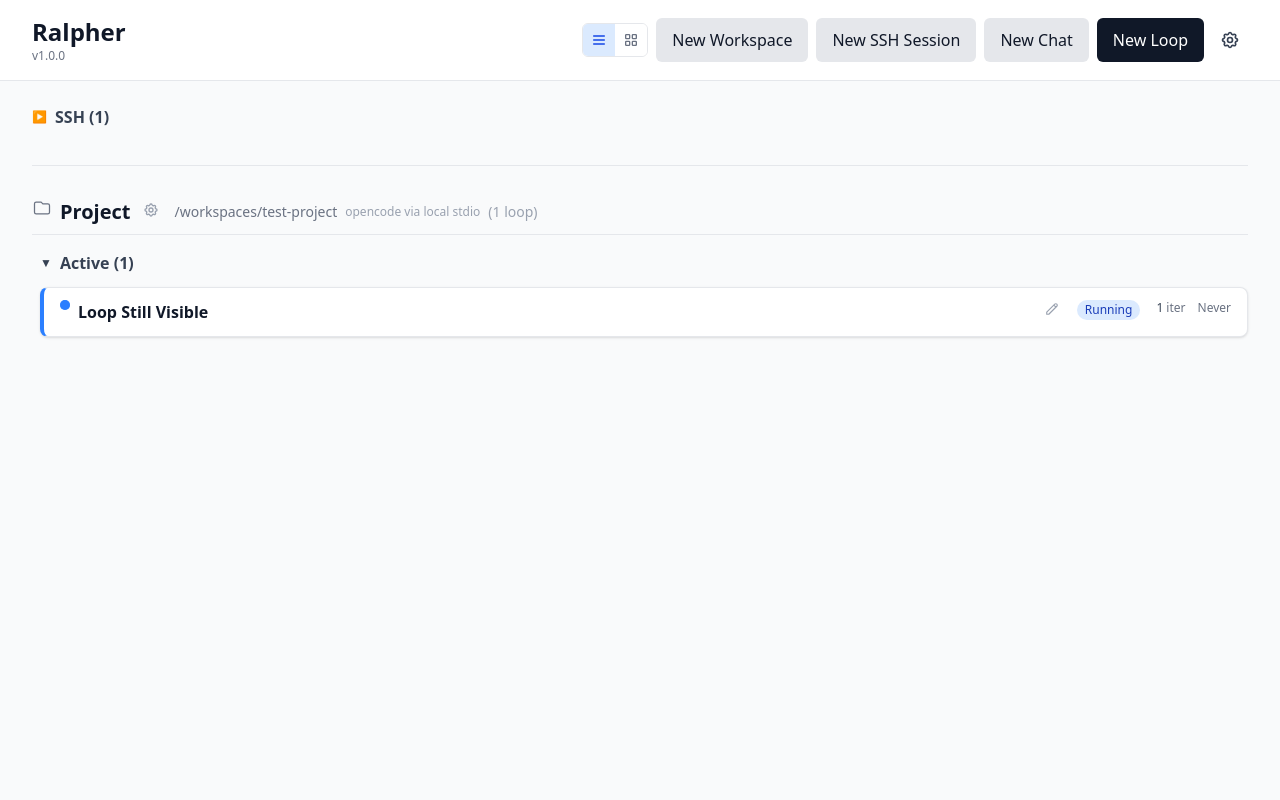
Scenario: ssh section › can collapse the unified ssh section without hiding loops
The width and height of the screenshot is (1280, 800).
Expected: the text "Collapsible SSH" is not shown
Expected: the heading "Loop Still Visible" is shown, [78,301,208,323]
Click the button "▶ SSH (1)" at {"x": 71, "y": 117}, box [32,105,109,129]
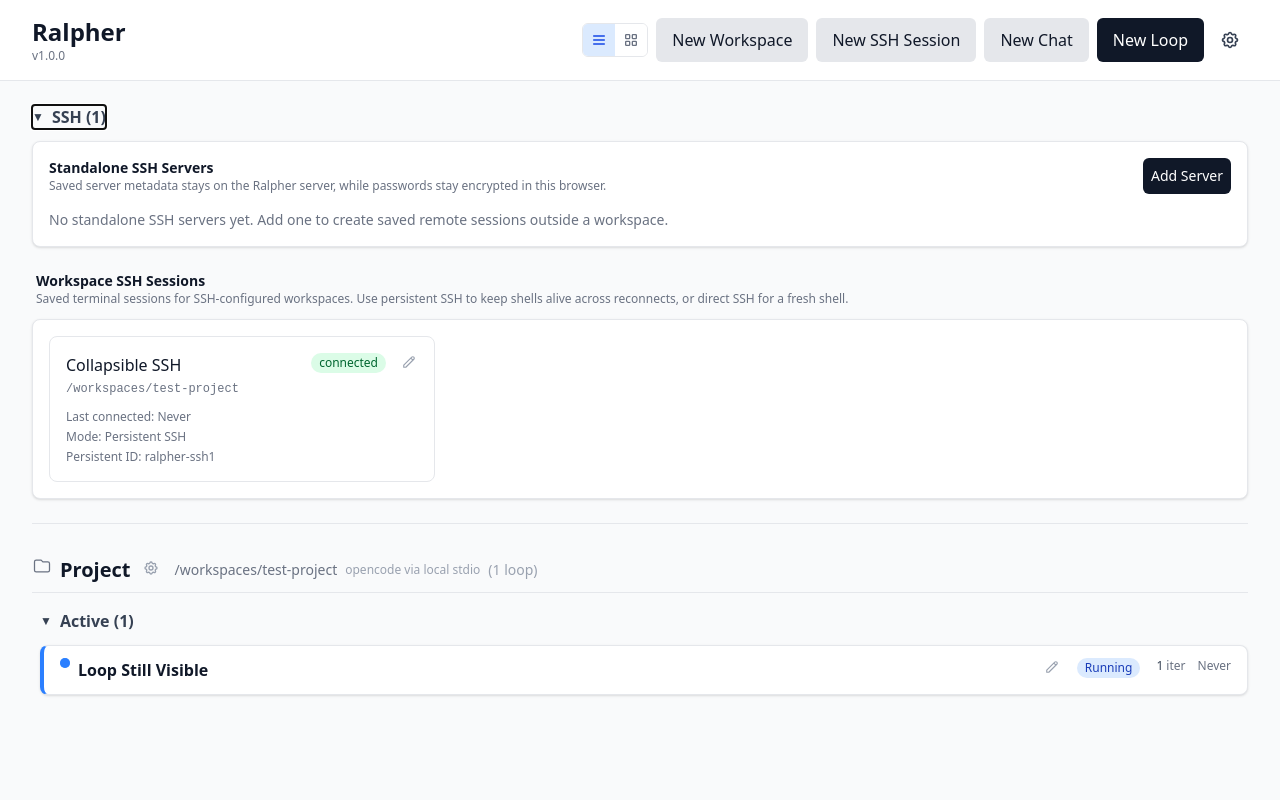
Expected: the heading "Collapsible SSH" is shown, [66,354,181,376]
Click the button "▼ SSH (1)" at {"x": 69, "y": 117}, box [32,105,106,129]
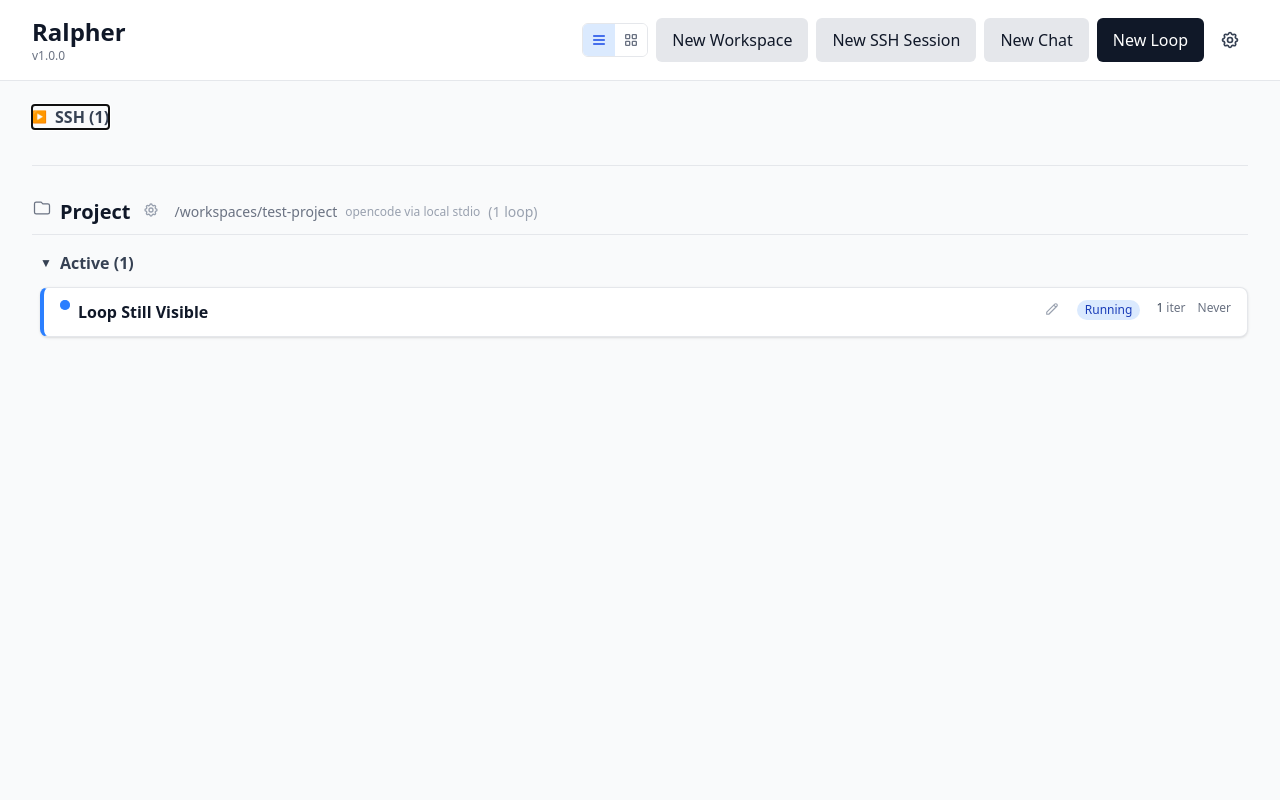
Expected: the heading "Loop Still Visible" is shown, [78,301,208,323]
Expected: the heading "Collapsible SSH" is gone
